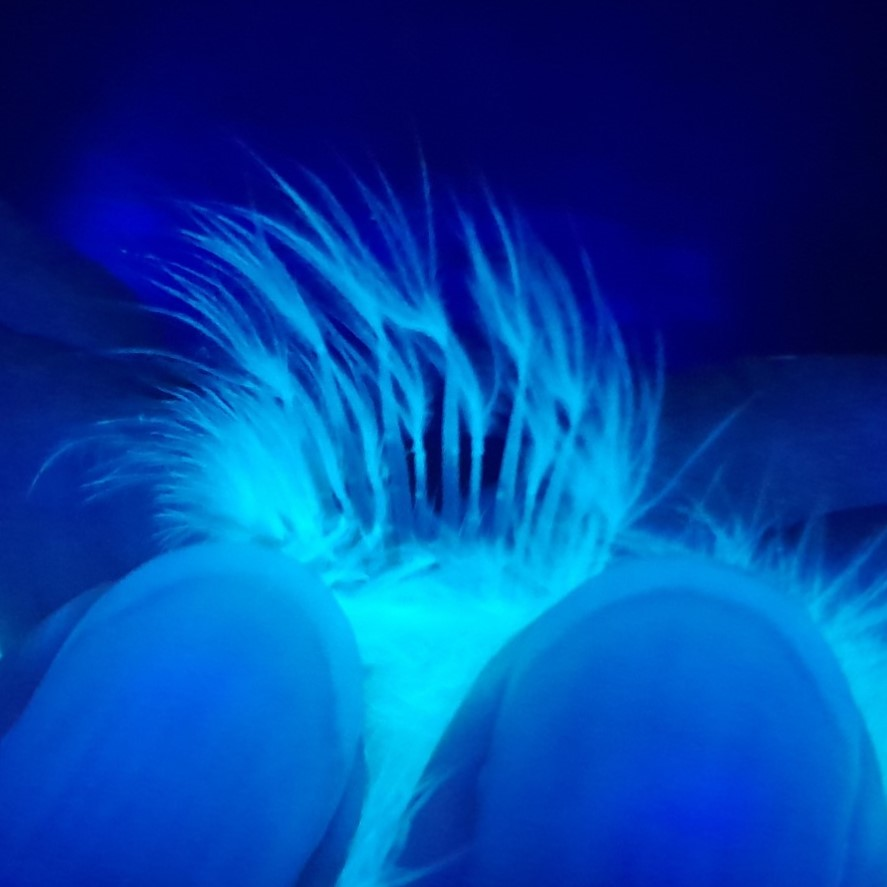male: (296, 310, 611, 616)
